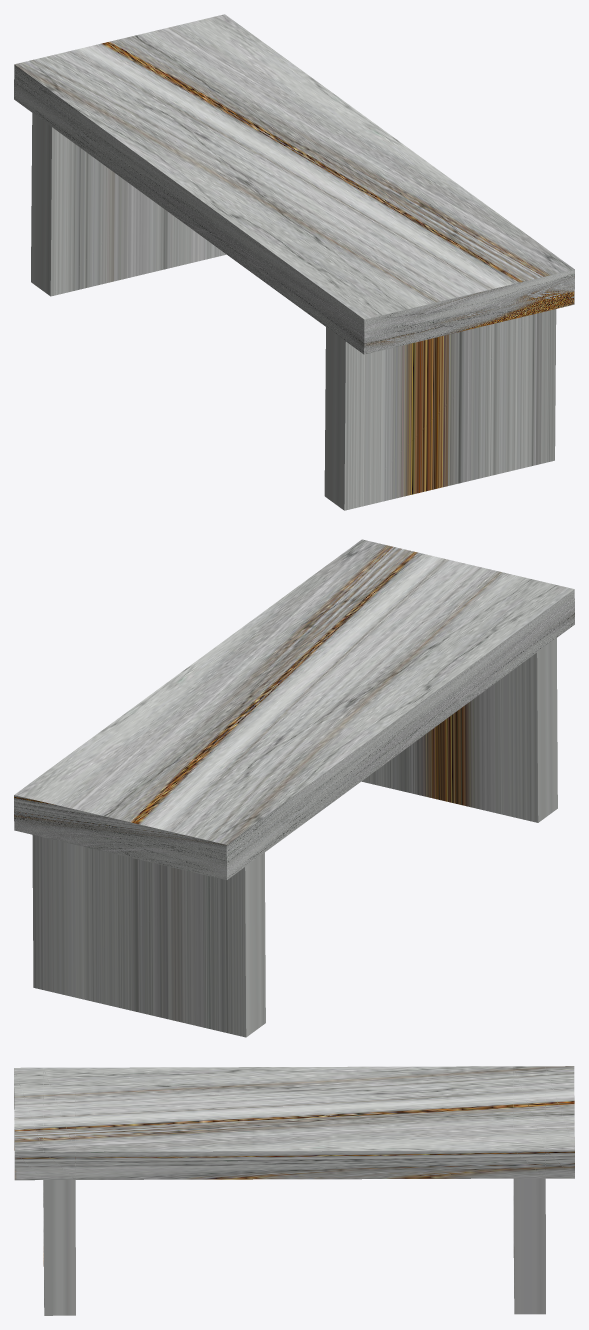
Rendered from kursi1abu.glb.
3 views of the same model, one above another, from view 1: azimuth 30°, elevation 25°; view 2: azimuth 150°, elevation 25°; view 3: azimuth 270°, elevation 25° (orthographic). The views are drawn at different scales.
Parts seen in each view (by area): view 1: Cube; view 2: Cube; view 3: Cube.
Part boxes in pixels (left/top/right/bottom): Cube: left=14, top=14, right=574, bottom=510; Cube: left=14, top=539, right=574, bottom=1037; Cube: left=14, top=1066, right=574, bottom=1315.
Size of the model in its own units: 0.2177 by 0.2008 by 0.6126.
Materials: 1 (1 with a texture image).
